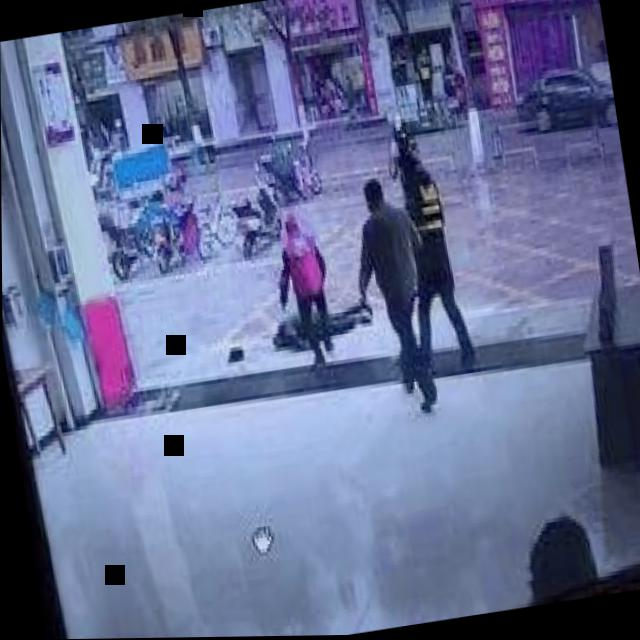Fall-Detected: (255, 258, 384, 369)
